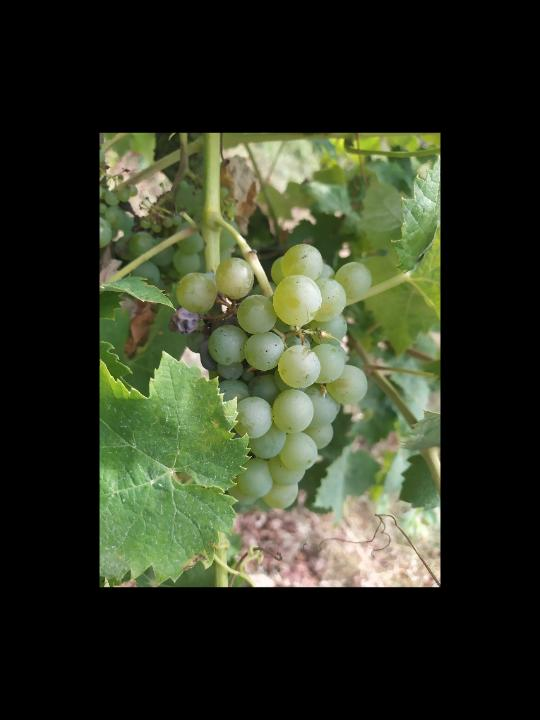grape: (173, 242, 373, 512)
